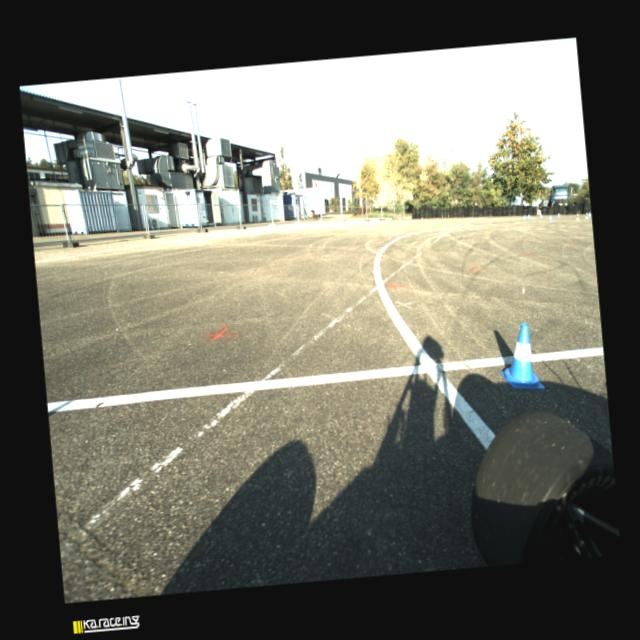blue_cone: (496, 322, 544, 391), (548, 214, 552, 222), (521, 214, 526, 220), (526, 213, 530, 220), (556, 212, 560, 218), (539, 213, 542, 218), (588, 211, 590, 217)
yellow_cone: (574, 212, 580, 220), (584, 212, 588, 218)
